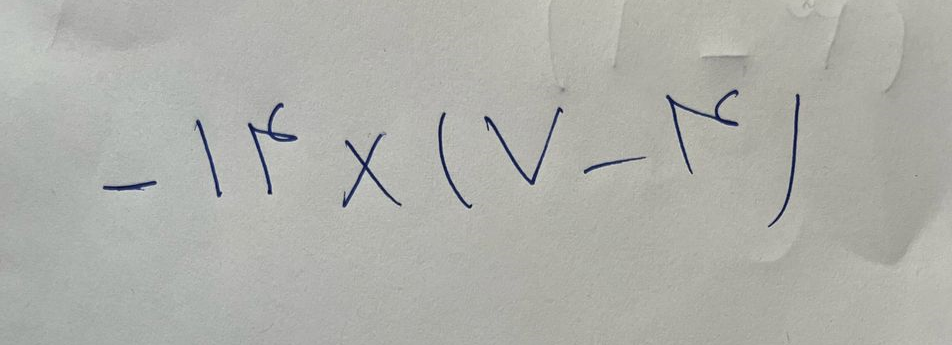character: (669, 89, 743, 174), (482, 109, 559, 184), (766, 94, 800, 242), (247, 106, 299, 202), (343, 130, 401, 211), (435, 109, 471, 211), (193, 121, 226, 203), (582, 155, 650, 177), (100, 178, 157, 196)
